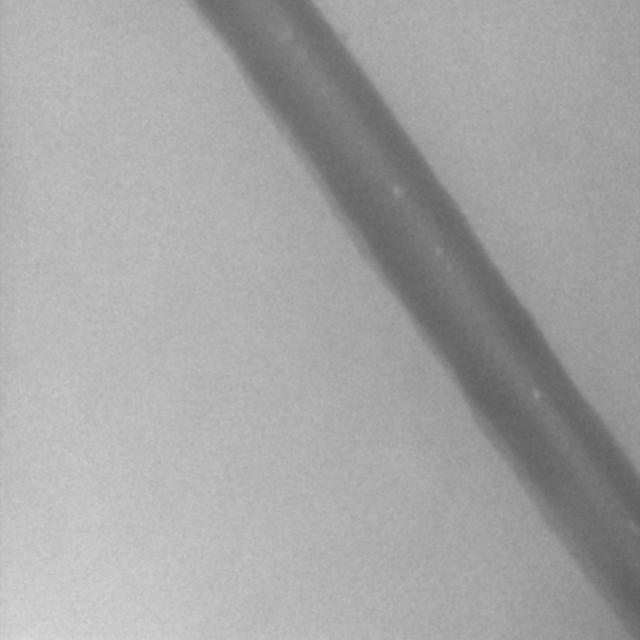air-hole: (277, 24, 291, 44), (393, 179, 402, 197), (434, 245, 443, 256), (533, 391, 542, 398), (450, 267, 452, 273)
